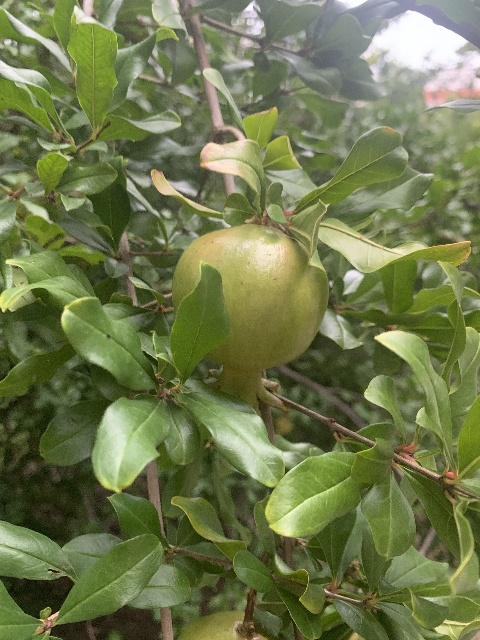mid-growth: (169, 223, 328, 420)
